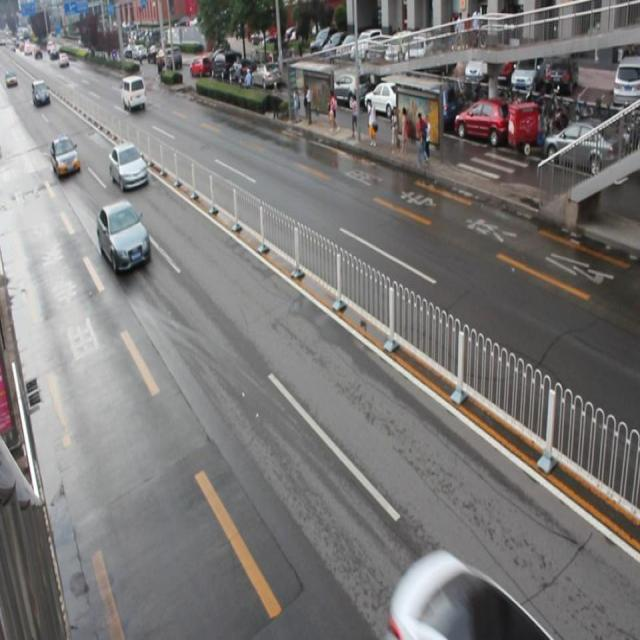car: (97, 199, 151, 273), (109, 140, 149, 191), (51, 135, 80, 180)
